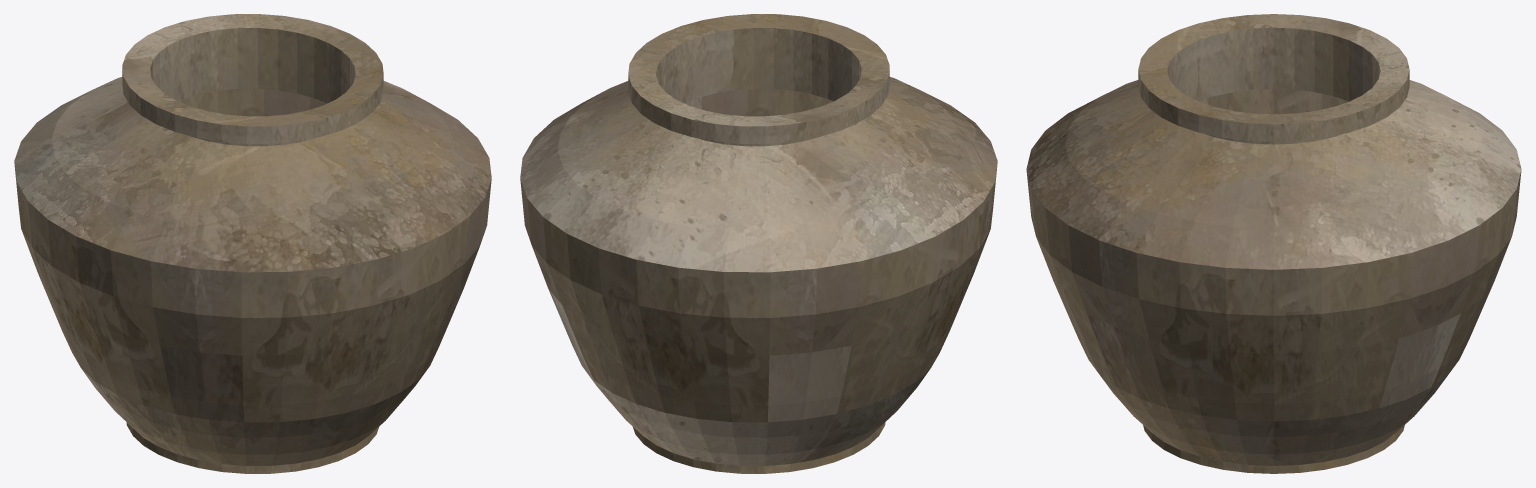
The model's file is Vase 2.fbx.
The picture shows the model from 3 angles, left to right: view 1: azimuth 30°, elevation 25°; view 2: azimuth 150°, elevation 25°; view 3: azimuth 270°, elevation 25°; orthographic projection.
Parts seen in each view (by area): view 1: Circle.002; view 2: Circle.002; view 3: Circle.002.
Boxes of the visible parts, left/top/right/bottom form: Circle.002: left=14, top=14, right=491, bottom=473; Circle.002: left=520, top=14, right=997, bottom=473; Circle.002: left=1026, top=14, right=1521, bottom=473.
Size of the model in its own units: 98.7 by 80.29 by 103.
1 material, 1 textured.
